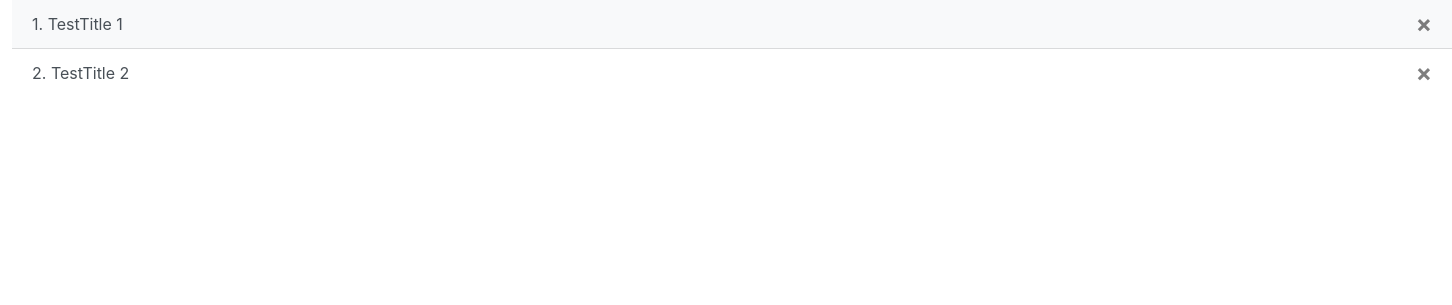
Test: PlaylistsTDD › selecting playlist from list loads details
Click the tab "1. TestTitle 1 ×".
click(85, 24)  # box 12,0 -> 1451,49
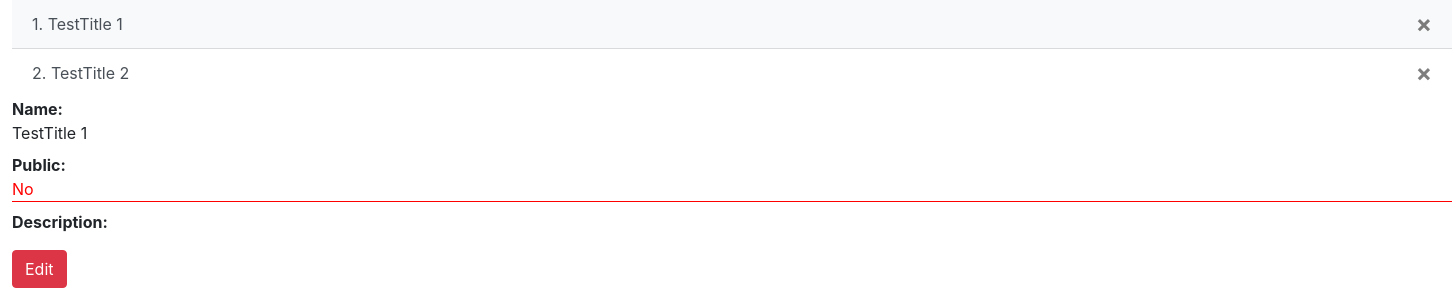
Expected: the text "TestTitle 1" is shown, 12,123 -> 87,143
